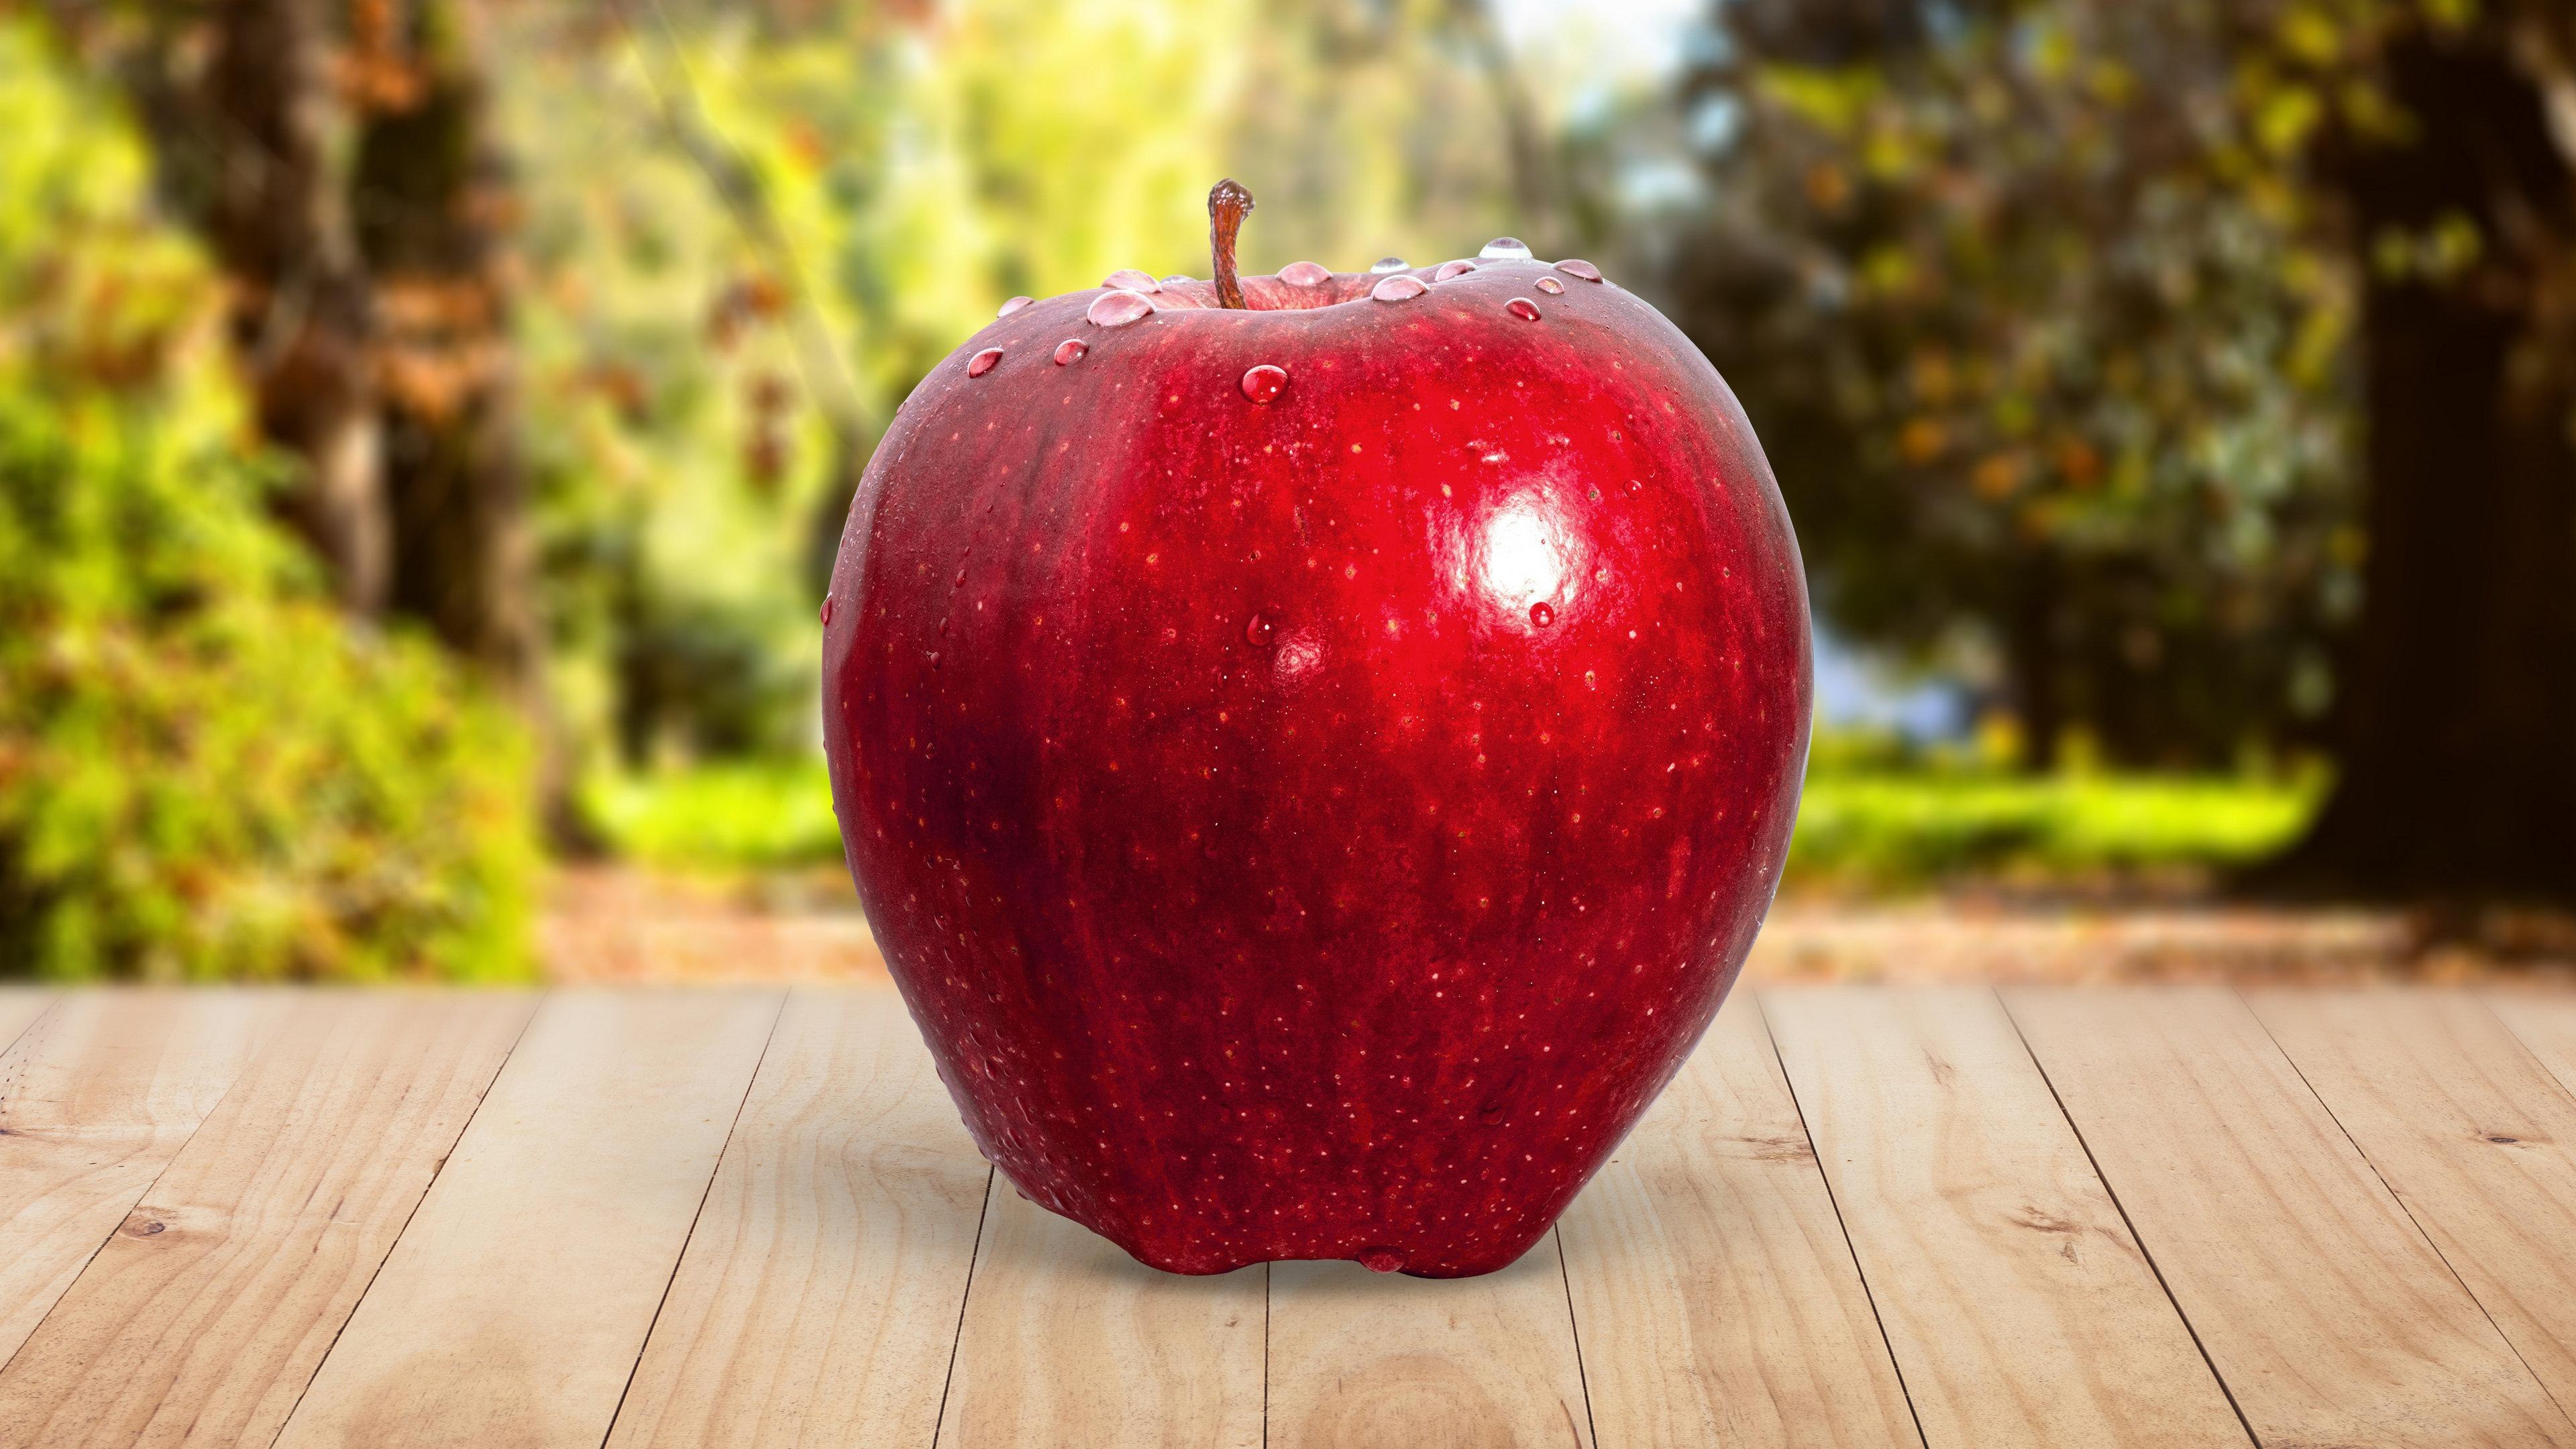apple: (800, 184, 1806, 1300)
